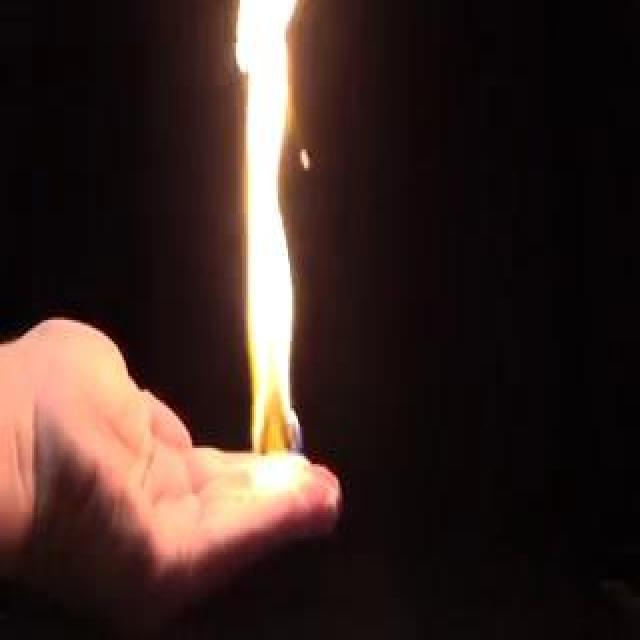Fire: (211, 2, 309, 506)
